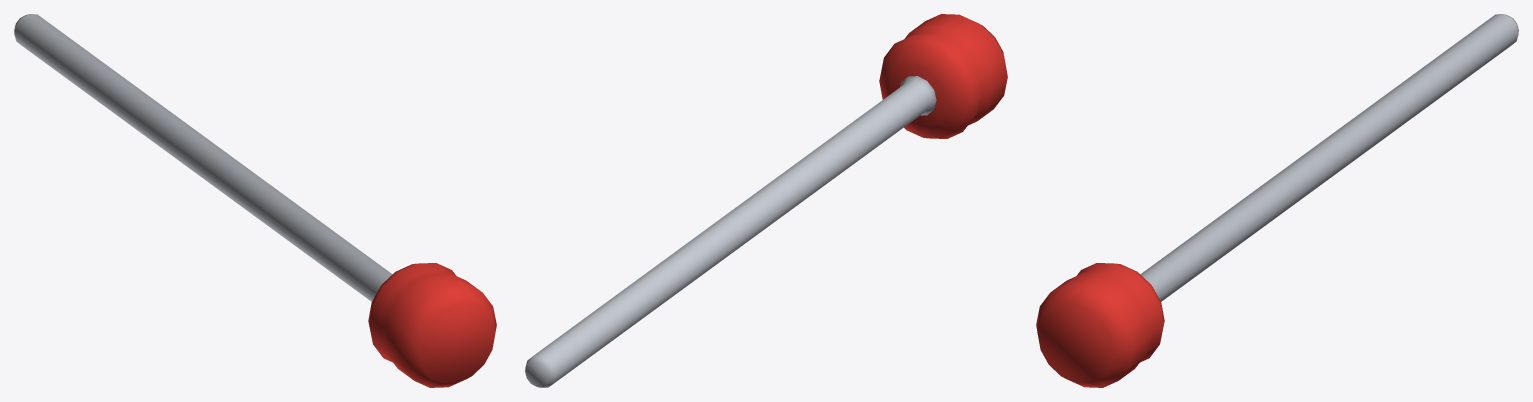
The model's file is Pinball_Plunger.glb.
3 renders of one model, left to right at view 1: azimuth 30°, elevation 25°; view 2: azimuth 150°, elevation 25°; view 3: azimuth 330°, elevation 25°, orthographic.
Parts seen in each view (by area): view 1: Rod, Knob; view 2: Rod, Knob; view 3: Rod, Knob.
Boxes of the visible parts, bbox=[...] form: Rod: bbox=[14, 14, 392, 301]; Knob: bbox=[368, 263, 496, 387]; Rod: bbox=[525, 76, 936, 387]; Knob: bbox=[879, 14, 1007, 138]; Rod: bbox=[1140, 14, 1518, 301]; Knob: bbox=[1036, 263, 1164, 387].
Bounding box in the file's own units: 0.0308 × 0.0308 × 0.238.
